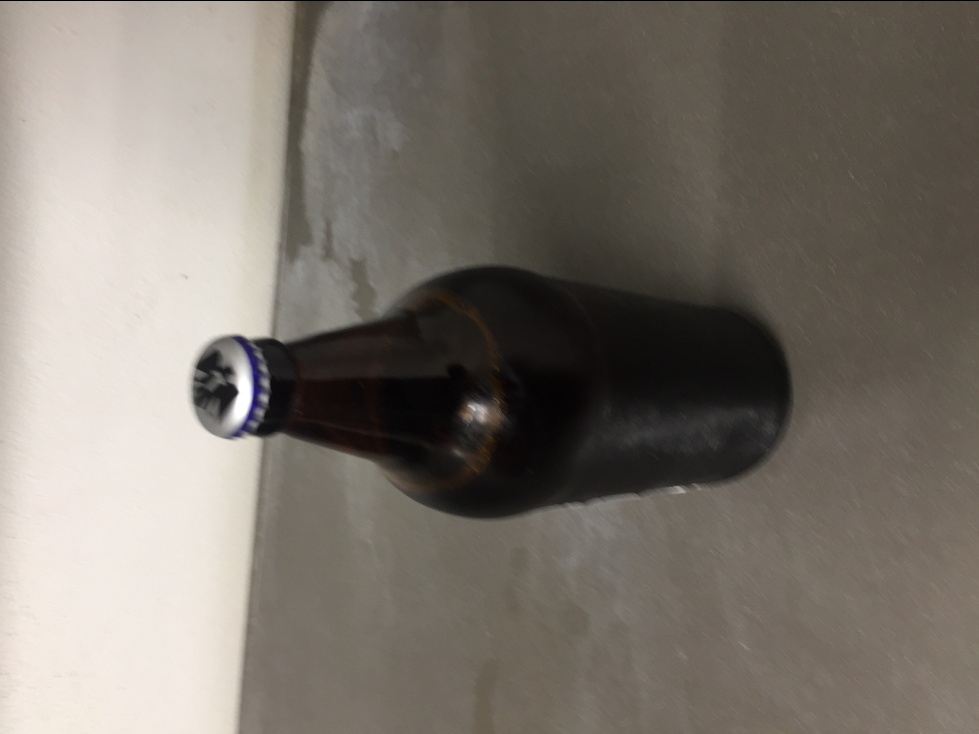tecateC: (191, 261, 804, 510)
